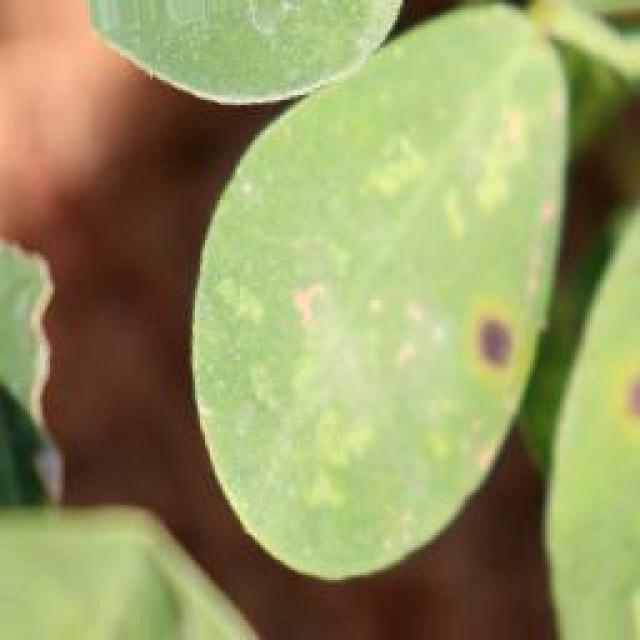Early_leaf_spot: (425, 279, 554, 408)
